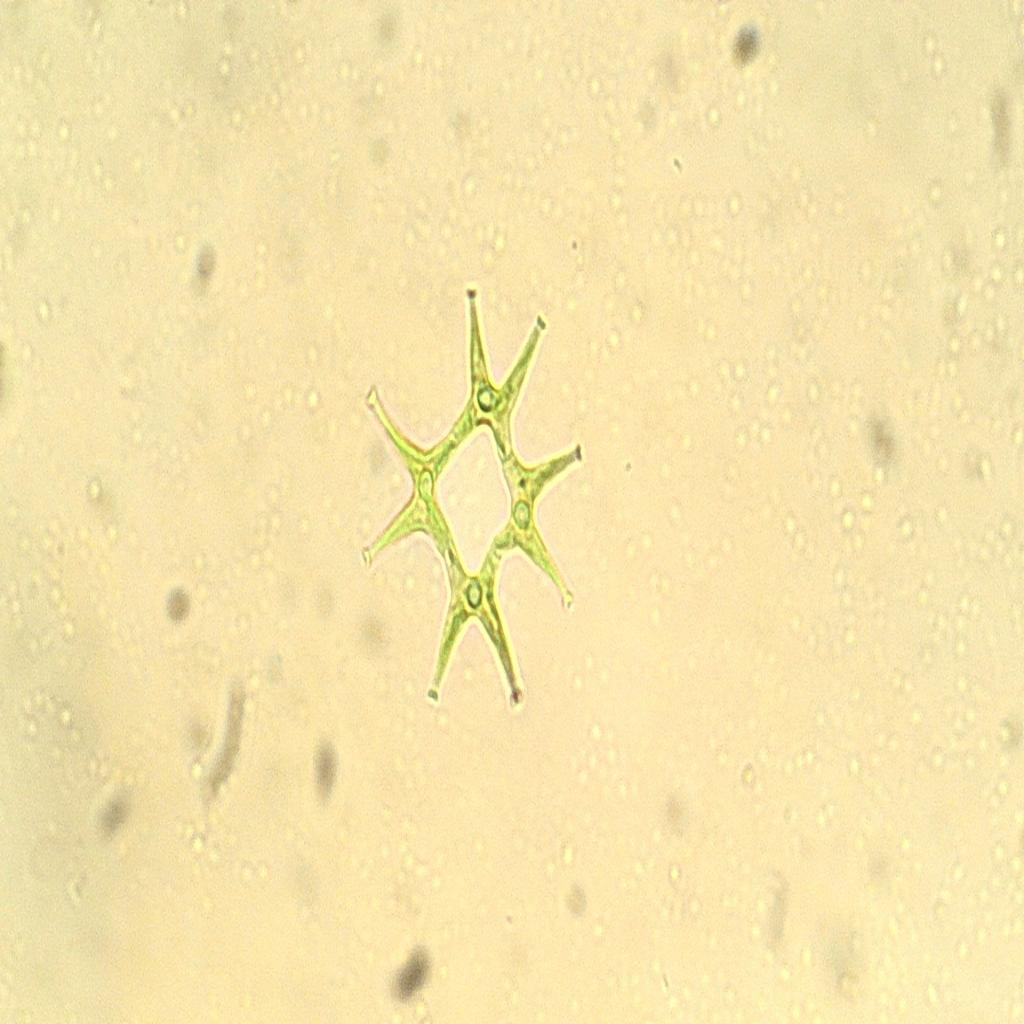Pediastrum_75O: (346, 270, 604, 748)
